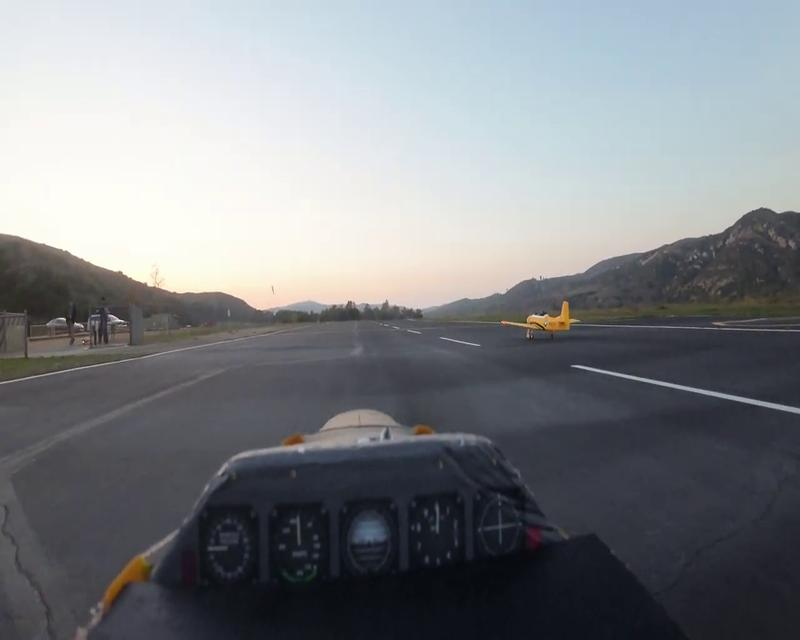UAV: (499, 299, 581, 340)
